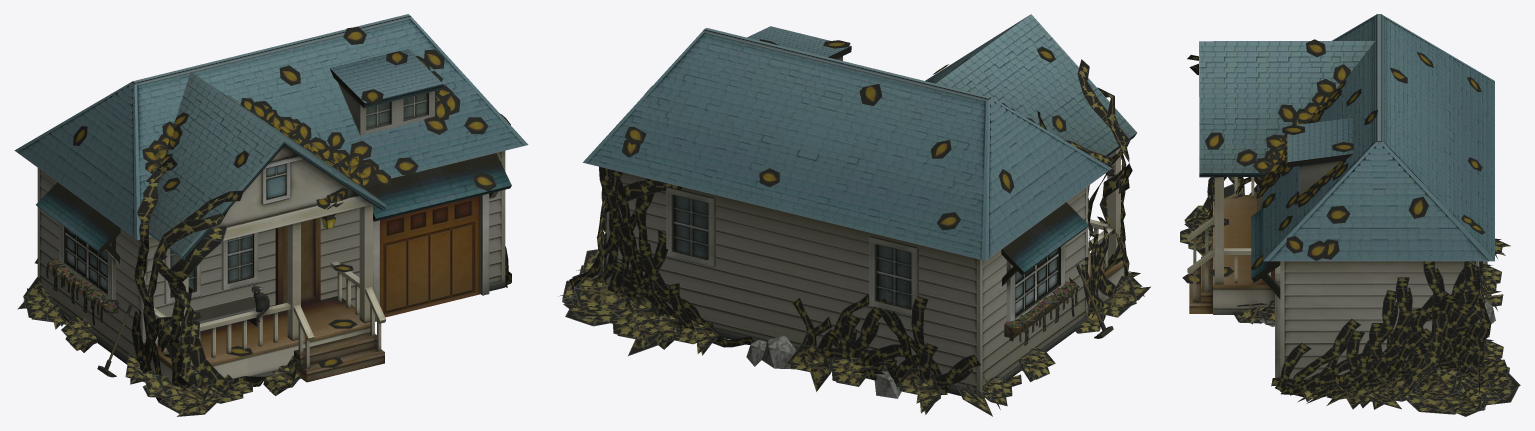
Rendered from nha-hoa-vien.glb.
3 renders of one model, left to right at view 1: azimuth 30°, elevation 25°; view 2: azimuth 150°, elevation 25°; view 3: azimuth 270°, elevation 25°, orthographic. The views are drawn at different scales.
Parts seen in each view (by area): view 1: Nha hoa vien (Autumn House); view 2: Nha hoa vien (Autumn House); view 3: Nha hoa vien (Autumn House).
Part boxes in pixels (bbox=[...]): Nha hoa vien (Autumn House): bbox=[14, 14, 528, 416]; Nha hoa vien (Autumn House): bbox=[558, 14, 1150, 416]; Nha hoa vien (Autumn House): bbox=[1180, 14, 1520, 416].
Size of the model in its own units: 8.02 by 4.68 by 5.64.
Materials: 3 (3 with a texture image).
